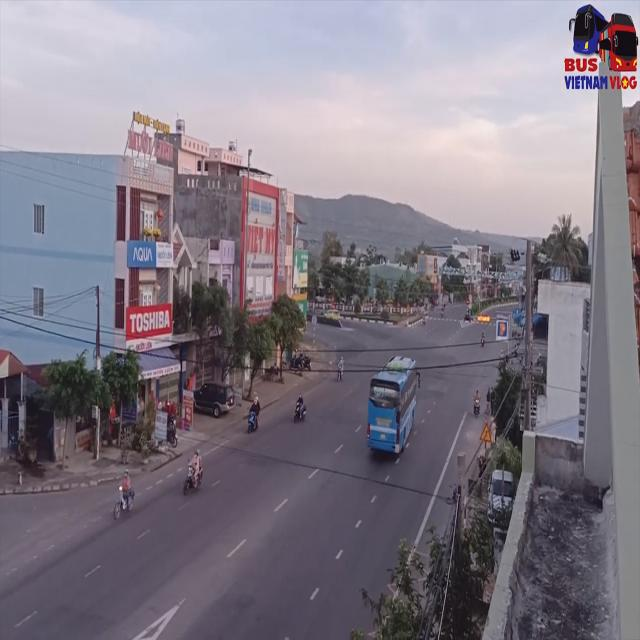bus: (368, 363, 419, 466)
motorbike: (112, 470, 134, 525), (182, 448, 204, 500), (246, 395, 260, 436), (294, 389, 307, 426)
